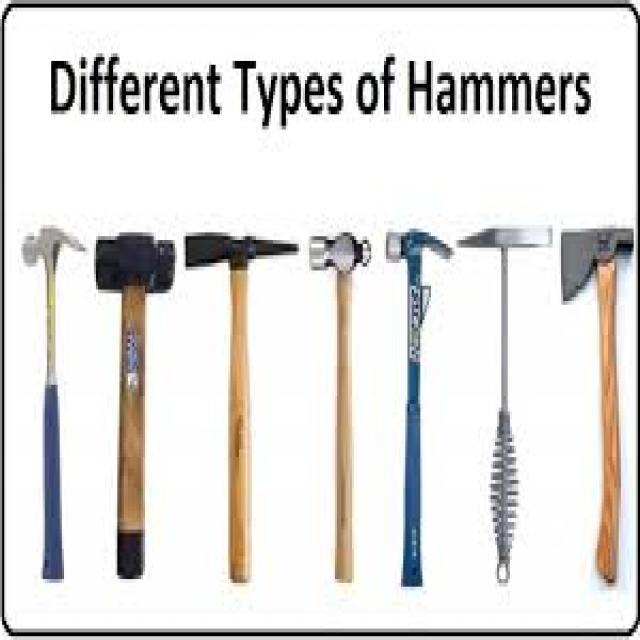hammer: (181, 204, 299, 588), (449, 198, 554, 587), (81, 204, 179, 566), (10, 197, 89, 592), (378, 202, 454, 590), (561, 202, 634, 602), (302, 206, 374, 594)
